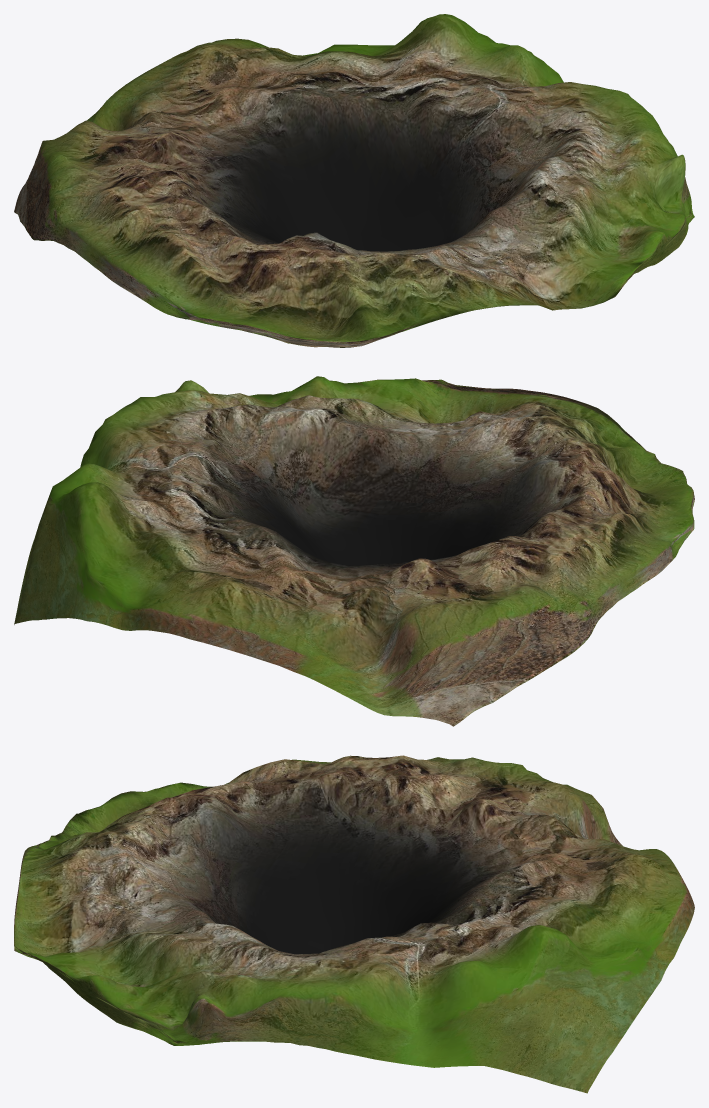
The model's file is büyükolan.glb.
The picture shows the model from 3 angles, top to bottom: view 1: azimuth 30°, elevation 25°; view 2: azimuth 150°, elevation 25°; view 3: azimuth 270°, elevation 25°; orthographic projection.
Visible parts, largest first — view 1: Object_2; view 2: Object_2; view 3: Object_2.
Boxes of the visible parts, left/top/right/bottom form: Object_2: left=14, top=14, right=694, bottom=347; Object_2: left=14, top=376, right=694, bottom=726; Object_2: left=14, top=755, right=694, bottom=1093.
Size of the model in its own units: 25.09 by 6.05 by 26.71.
Materials: 1 (1 with a texture image).
